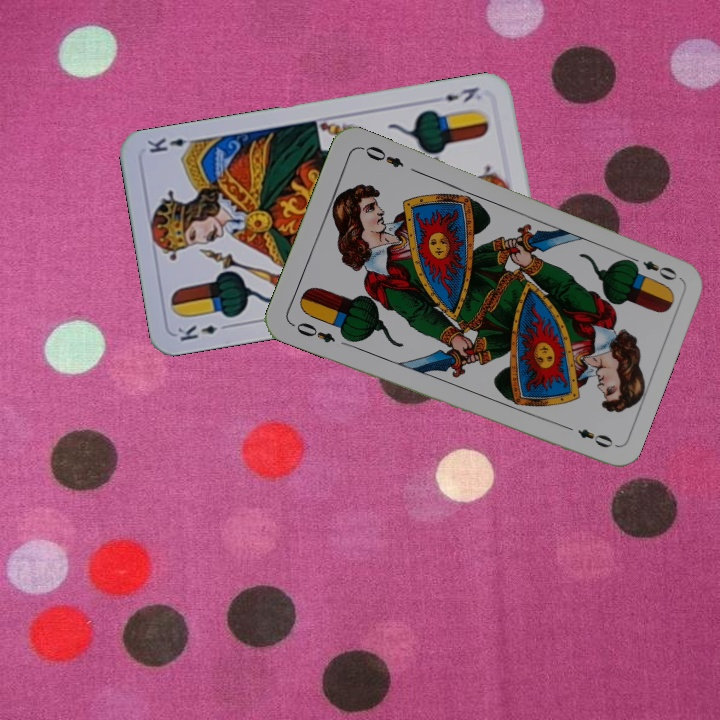EK: (173, 320, 233, 344), (441, 83, 481, 105)
EO: (624, 252, 680, 283), (287, 318, 338, 346)
